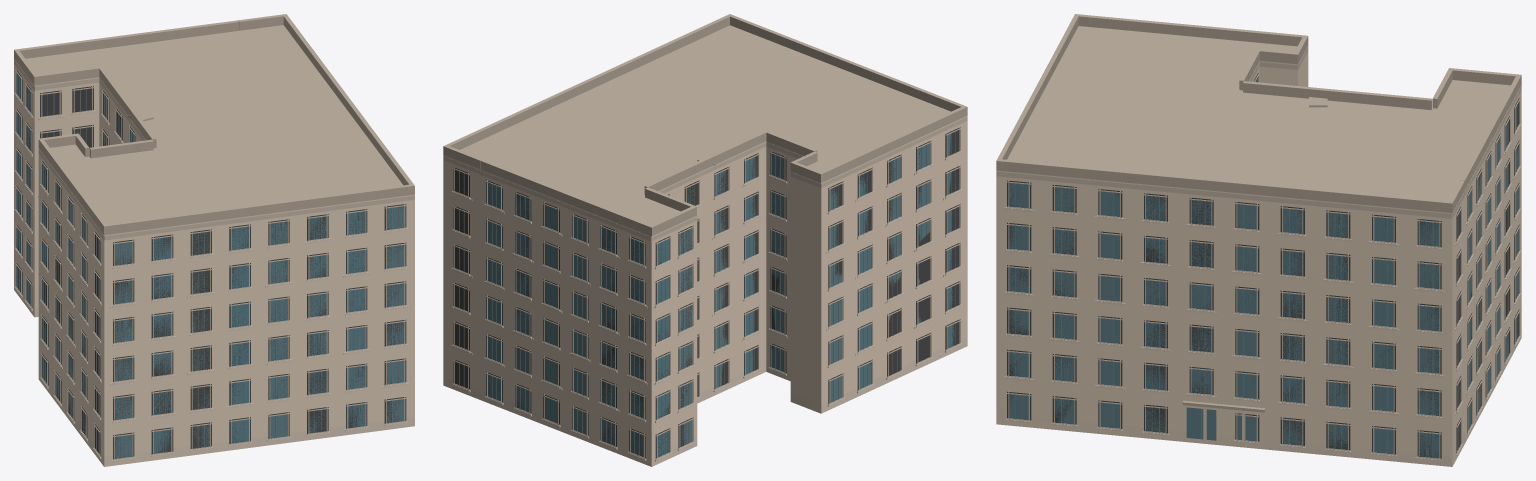
Rendered from cop_predio_historico_01__way_134013926.fbx.
3 renders of one model, left to right at view 1: azimuth 30°, elevation 25°; view 2: azimuth 150°, elevation 25°; view 3: azimuth 270°, elevation 25°, orthographic. The views are drawn at different scales.
Parts seen in each view (by area): view 1: cop_predio_historico_01__way_134013926_wall, cop_predio_historico_01__way_134013926_roof, cop_predio_historico_01__way_134013926_glass, cop_predio_historico_01__way_134013926_shadow, cop_predio_historico_01__way_134013926_trim, cop_predio_historico_01__way_134013926_stone, cop_predio_historico_01__way_134013926_metal; view 2: cop_predio_historico_01__way_134013926_wall, cop_predio_historico_01__way_134013926_roof, cop_predio_historico_01__way_134013926_glass, cop_predio_historico_01__way_134013926_shadow, cop_predio_historico_01__way_134013926_trim, cop_predio_historico_01__way_134013926_stone, cop_predio_historico_01__way_134013926_metal; view 3: cop_predio_historico_01__way_134013926_wall, cop_predio_historico_01__way_134013926_roof, cop_predio_historico_01__way_134013926_glass, cop_predio_historico_01__way_134013926_shadow, cop_predio_historico_01__way_134013926_trim, cop_predio_historico_01__way_134013926_stone, cop_predio_historico_01__way_134013926_metal.
Part boxes in pixels (x1,y1,x2,y2): cop_predio_historico_01__way_134013926_wall: (14,59,414,466); cop_predio_historico_01__way_134013926_roof: (14,14,414,235); cop_predio_historico_01__way_134013926_glass: (16,73,404,458); cop_predio_historico_01__way_134013926_shadow: (15,70,406,459); cop_predio_historico_01__way_134013926_trim: (14,60,414,460); cop_predio_historico_01__way_134013926_stone: (14,93,414,466); cop_predio_historico_01__way_134013926_metal: (17,75,398,458); cop_predio_historico_01__way_134013926_wall: (443,115,967,466); cop_predio_historico_01__way_134013926_roof: (443,14,967,236); cop_predio_historico_01__way_134013926_glass: (463,133,954,457); cop_predio_historico_01__way_134013926_shadow: (453,127,960,458); cop_predio_historico_01__way_134013926_trim: (443,117,967,459); cop_predio_historico_01__way_134013926_stone: (443,151,967,466); cop_predio_historico_01__way_134013926_metal: (459,131,955,456); cop_predio_historico_01__way_134013926_wall: (996,46,1521,466); cop_predio_historico_01__way_134013926_roof: (996,14,1521,412); cop_predio_historico_01__way_134013926_glass: (1009,76,1519,458); cop_predio_historico_01__way_134013926_shadow: (1007,72,1519,459); cop_predio_historico_01__way_134013926_trim: (996,47,1521,459); cop_predio_historico_01__way_134013926_stone: (997,124,1521,466); cop_predio_historico_01__way_134013926_metal: (1015,78,1518,457).
Bounding box in the file's own units: 2883 × 1869 × 3376.
